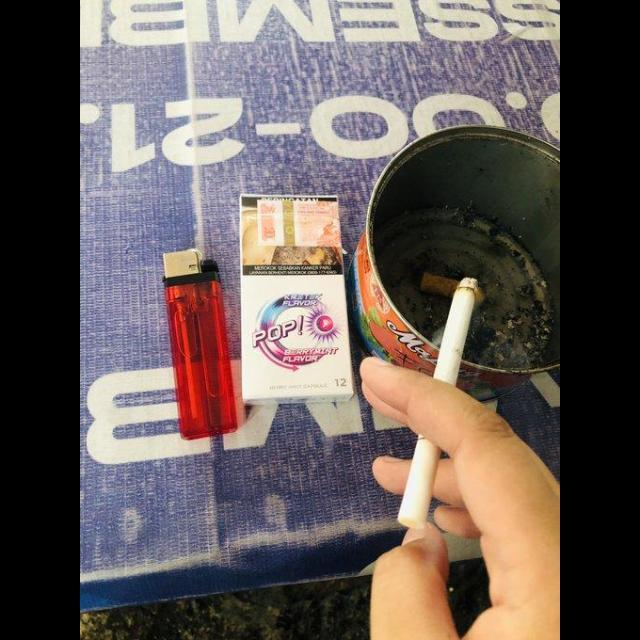rokok: (393, 271, 481, 535)
